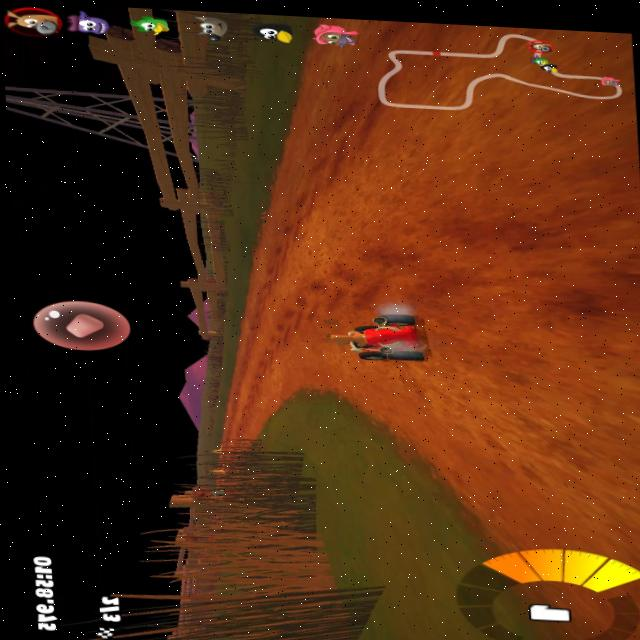player_kart: (337, 314, 428, 363)
track: (485, 27, 640, 639), (326, 17, 509, 316), (252, 122, 345, 336), (423, 315, 512, 532), (333, 365, 436, 426), (241, 332, 330, 382), (230, 370, 256, 441), (251, 379, 270, 424), (219, 430, 239, 472)
